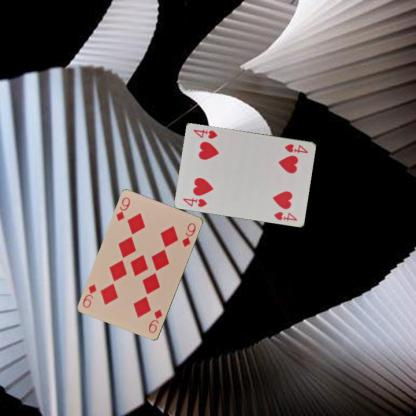4h: (282, 141, 309, 154), (181, 195, 208, 208)
9d: (146, 307, 164, 334), (114, 195, 132, 222)
